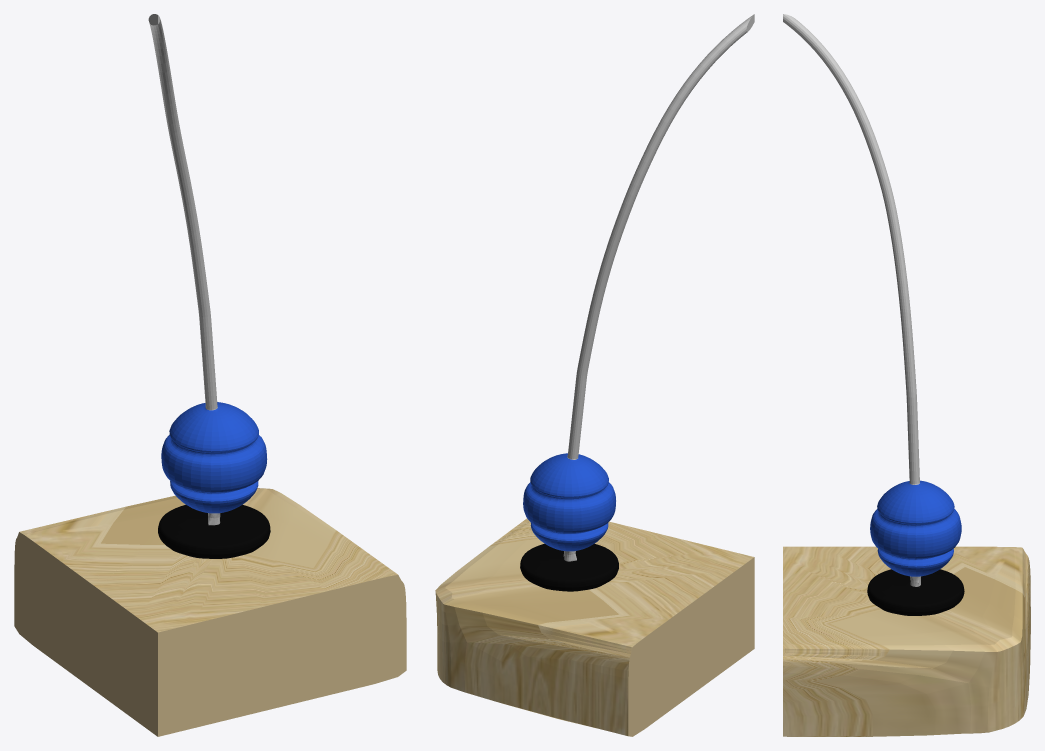
The model's file is 2_Motorikschleife subdiv.fbx.
3 views of the same model, side by side, from view 1: azimuth 30°, elevation 25°; view 2: azimuth 150°, elevation 25°; view 3: azimuth 270°, elevation 25° (orthographic). The views are drawn at different scales.
Parts seen in each view (by area): view 1: Cube.002; view 2: Cube.002; view 3: Cube.002.
Boxes of the visible parts, x1,y1,x2,y2 form: Cube.002: [14, 14, 406, 736]; Cube.002: [435, 14, 754, 736]; Cube.002: [783, 14, 1030, 736].
Bounding box in the file's own units: 499 × 1383 × 499.
